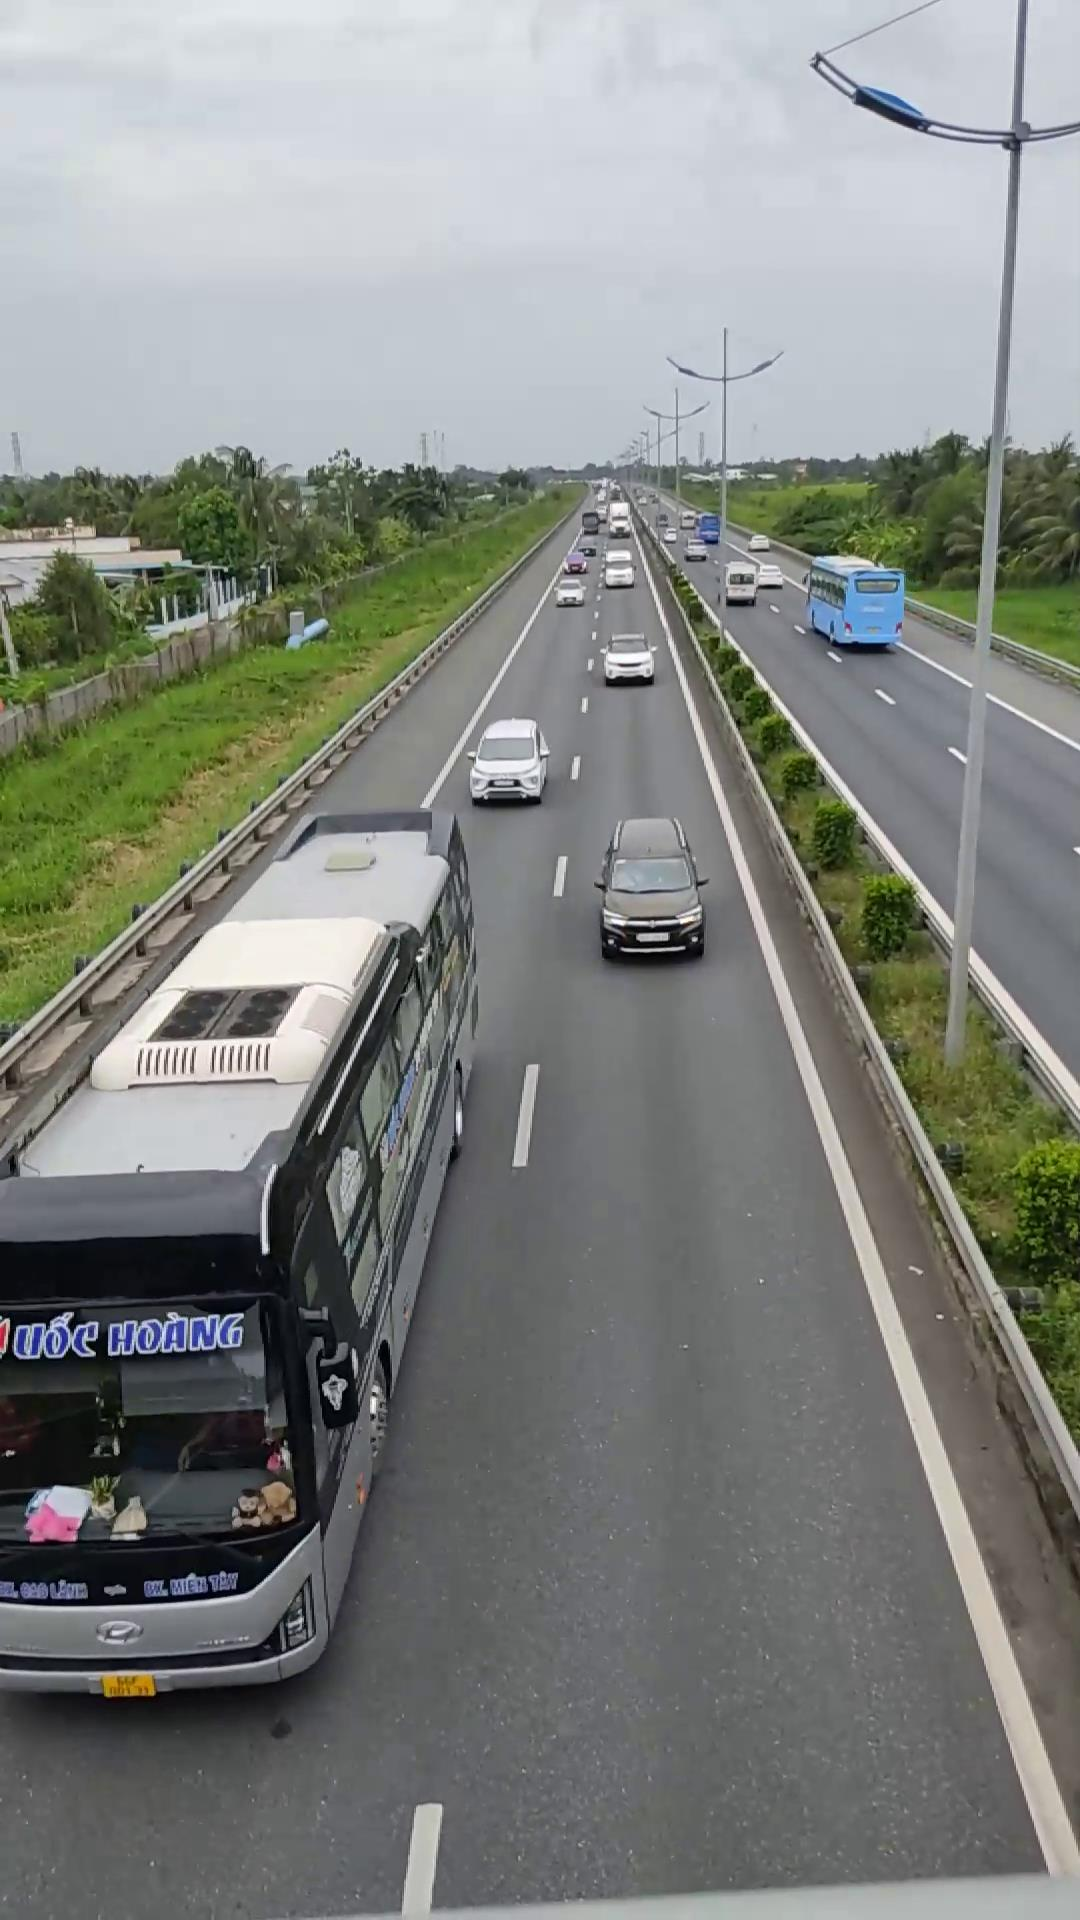bus: (10, 809, 482, 1706)
car: (593, 816, 707, 959), (466, 717, 550, 804)
